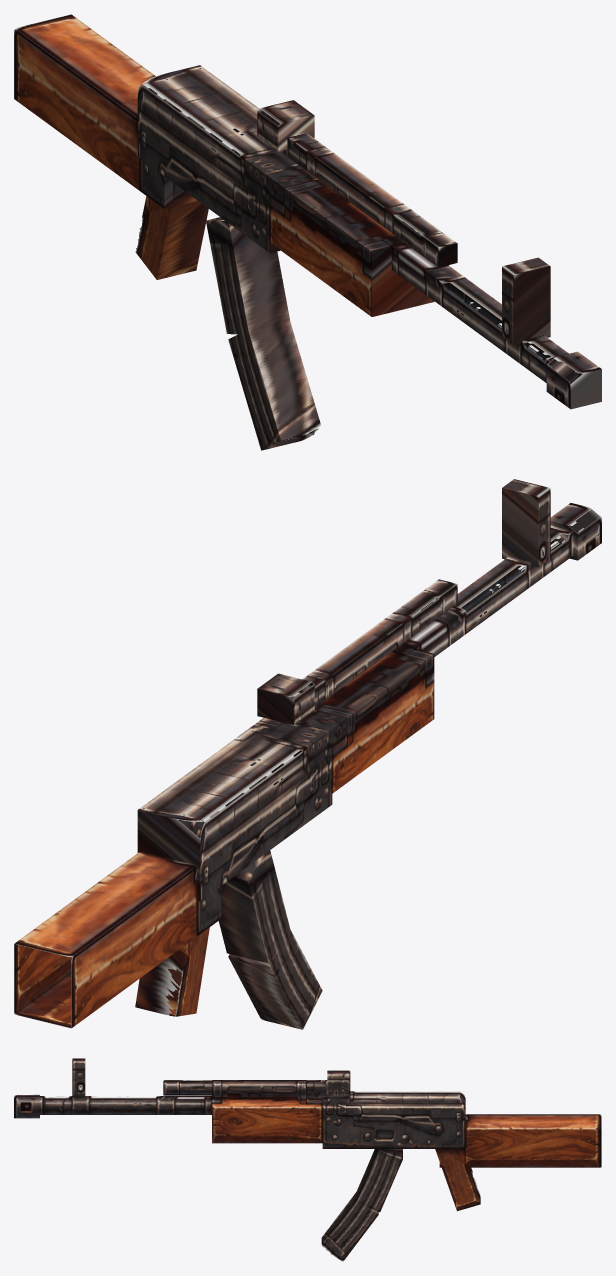
File: rifle.glb
3 renders of one model, top to bottom at view 1: azimuth 30°, elevation 25°; view 2: azimuth 150°, elevation 25°; view 3: azimuth 270°, elevation 25°, orthographic. The views are drawn at different scales.
Visible parts, largest first — view 1: rifle_game.001; view 2: rifle_game.001; view 3: rifle_game.001.
Part boxes in pixels (x1,y1,x2,y2): rifle_game.001: (14, 14, 601, 450); rifle_game.001: (14, 479, 601, 1029); rifle_game.001: (14, 1058, 601, 1261).
Bounding box in the file's own units: 0.029 × 0.1589 × 0.4372.
Materials: 1 (1 with a texture image).
